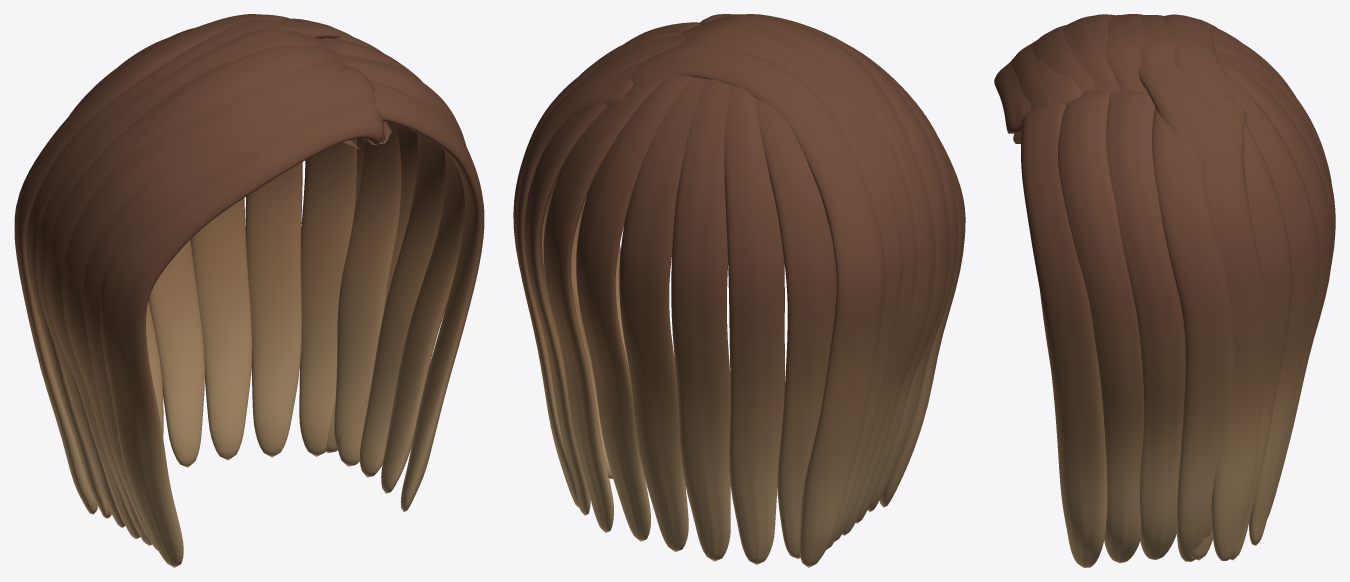
The model's file is Feminine-straight-hair260-ombre.glb.
3 renders of one model, left to right at view 1: azimuth 30°, elevation 25°; view 2: azimuth 150°, elevation 25°; view 3: azimuth 270°, elevation 25°, orthographic. The views are drawn at different scales.
Visible parts, largest first — view 1: 226 hair / Hair / sculpted 0.001, 226 hair / Hair / sculpted 1.002, 226 hair / Hair / sculpted 2.001; view 2: 226 hair / Hair / sculpted 0.001, 226 hair / Hair / sculpted 2.001, 226 hair / Hair / sculpted 1.002; view 3: 226 hair / Hair / sculpted 1.002, 226 hair / Hair / sculpted 2.001, 226 hair / Hair / sculpted 0.001.
Boxes of the visible parts, x1=… form: 226 hair / Hair / sculpted 0.001: x1=14, y1=14, x2=445, y2=567; 226 hair / Hair / sculpted 1.002: x1=35, y1=18, x2=484, y2=550; 226 hair / Hair / sculpted 2.001: x1=26, y1=19, x2=466, y2=545; 226 hair / Hair / sculpted 0.001: x1=542, y1=15, x2=965, y2=567; 226 hair / Hair / sculpted 2.001: x1=515, y1=14, x2=950, y2=558; 226 hair / Hair / sculpted 1.002: x1=513, y1=14, x2=958, y2=564; 226 hair / Hair / sculpted 1.002: x1=1011, y1=14, x2=1332, y2=567; 226 hair / Hair / sculpted 2.001: x1=1033, y1=14, x2=1335, y2=563; 226 hair / Hair / sculpted 0.001: x1=994, y1=14, x2=1331, y2=560.
Size of the model in its own units: 1.02 by 1.19 by 0.7721.
